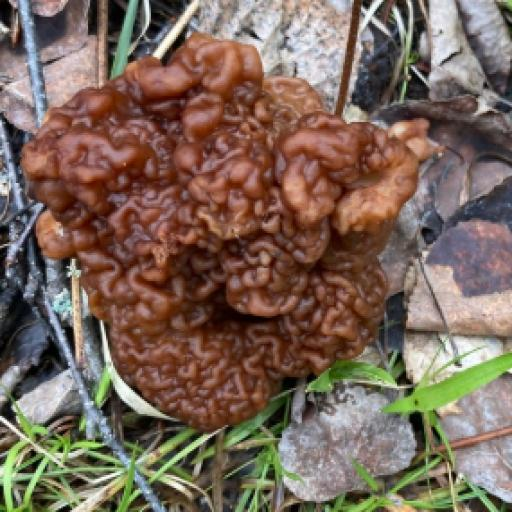mushroom: (0, 0, 489, 467)
